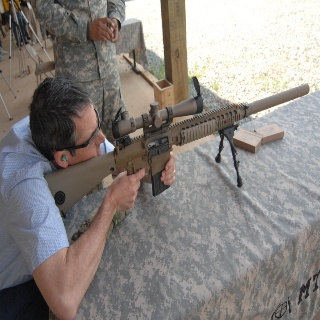rifle: (42, 82, 310, 218)
